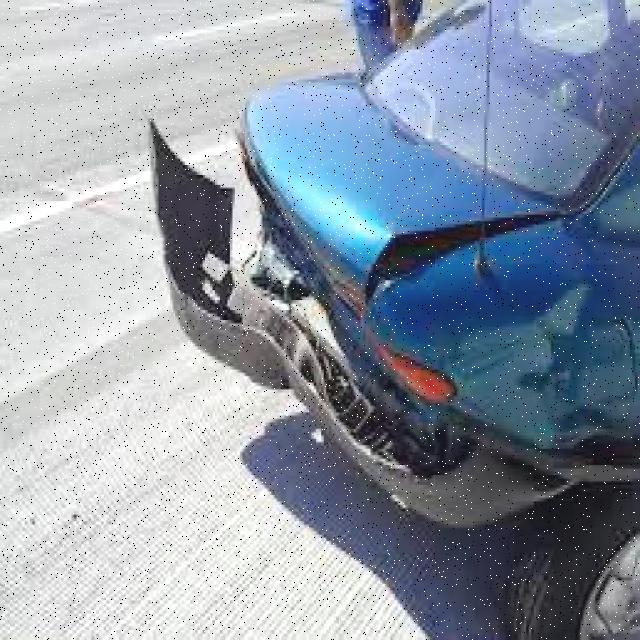car damage: (144, 118, 638, 509)
